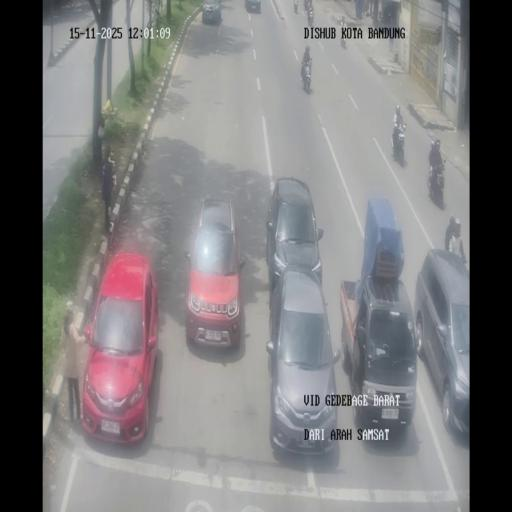car: (80, 250, 159, 444), (266, 266, 340, 457), (414, 251, 470, 441), (202, 1, 222, 24)
motorcycle: (428, 158, 446, 206), (392, 120, 406, 165), (300, 57, 312, 93), (340, 24, 347, 48), (307, 5, 314, 27), (362, 0, 369, 16), (303, 0, 309, 12), (294, 0, 298, 14), (378, 10, 382, 22)
truck: (340, 200, 418, 436)
